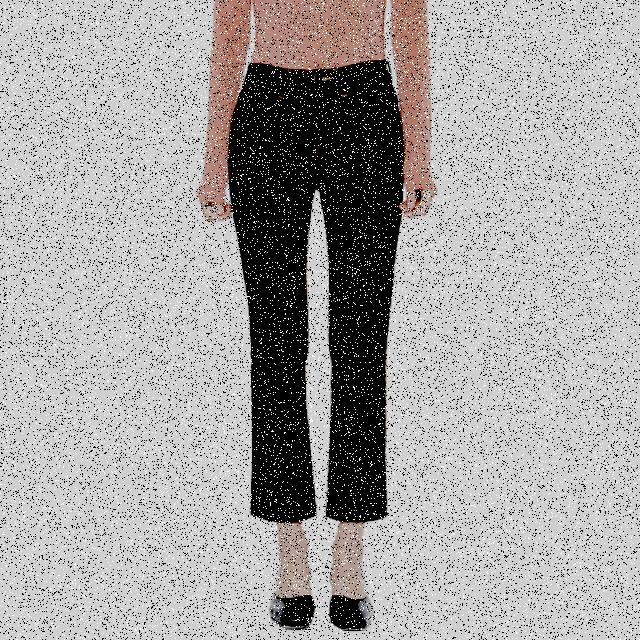dress: (231, 63, 396, 525)
